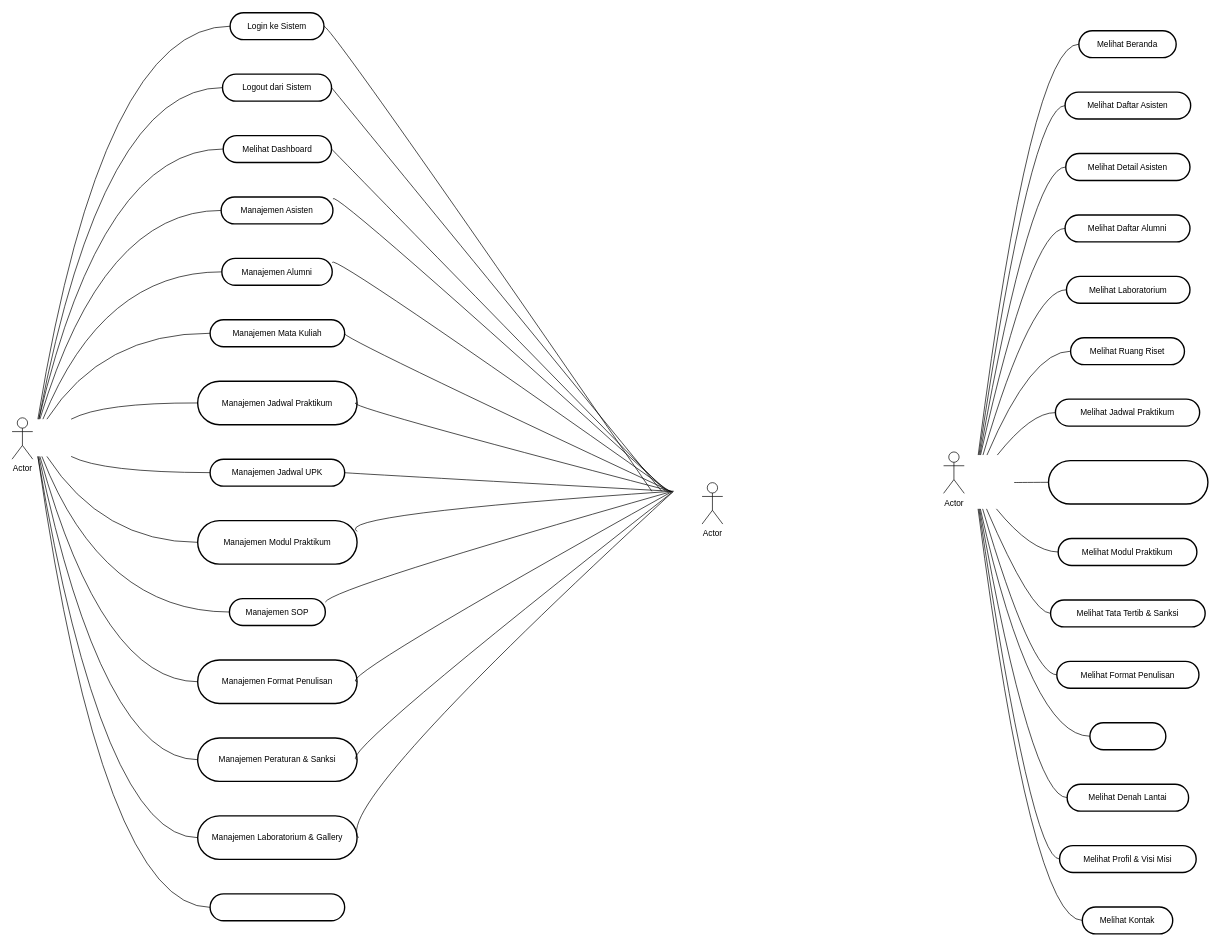
Image size: 1221x946. Some labels were removed from this diagram. The centre of each missing label's shape, as x and y in pixels:
"Manajemen Akun Admin" goes at point (277, 907).
"Melihat Jadwal Ujian Praktikum" goes at point (1127, 482).
"Melihat SOP" goes at point (1127, 736).
